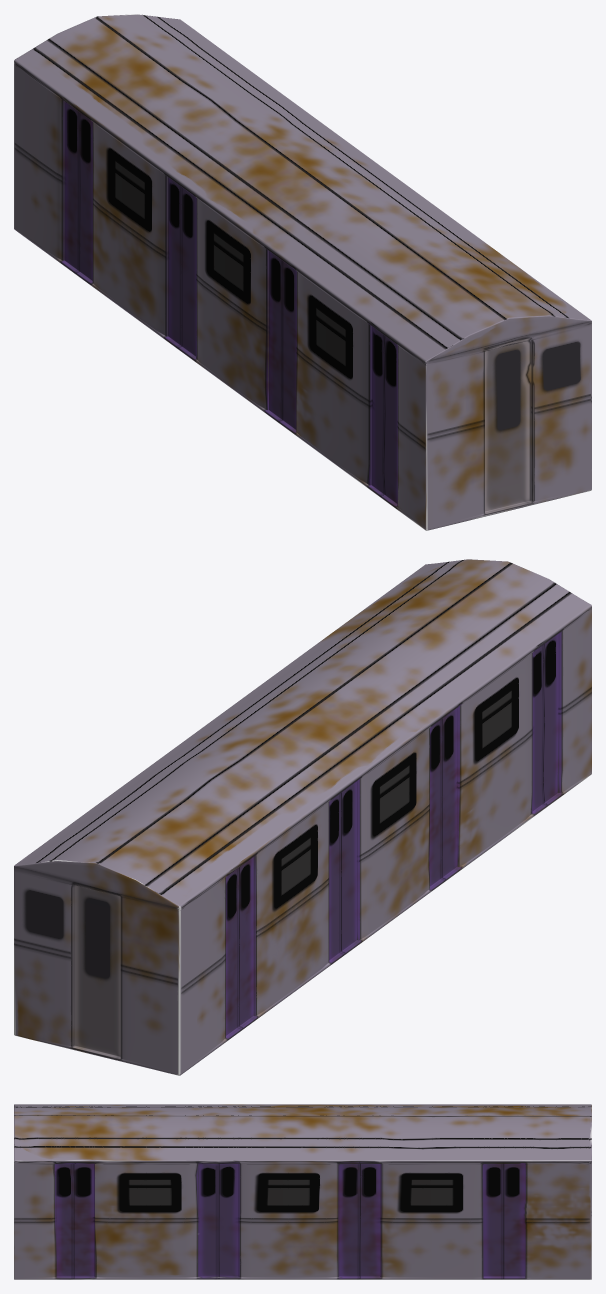
The model's file is train.fbx.
3 renders of one model, top to bottom at view 1: azimuth 30°, elevation 25°; view 2: azimuth 150°, elevation 25°; view 3: azimuth 270°, elevation 25°, orthographic. The views are drawn at different scales.
Visible parts, largest first — view 1: pCube3; view 2: pCube3; view 3: pCube3.
Boxes of the visible parts, x1=… form: pCube3: x1=14, y1=14, x2=591, y2=530; pCube3: x1=14, y1=559, x2=591, y2=1075; pCube3: x1=14, y1=1104, x2=591, y2=1279.
Bounding box in the file's own units: 4 × 4.43 × 17.17.
